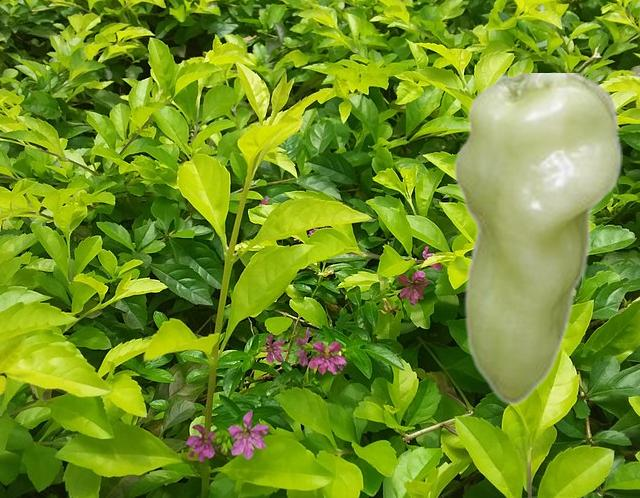green_chili: (449, 73, 621, 404)
